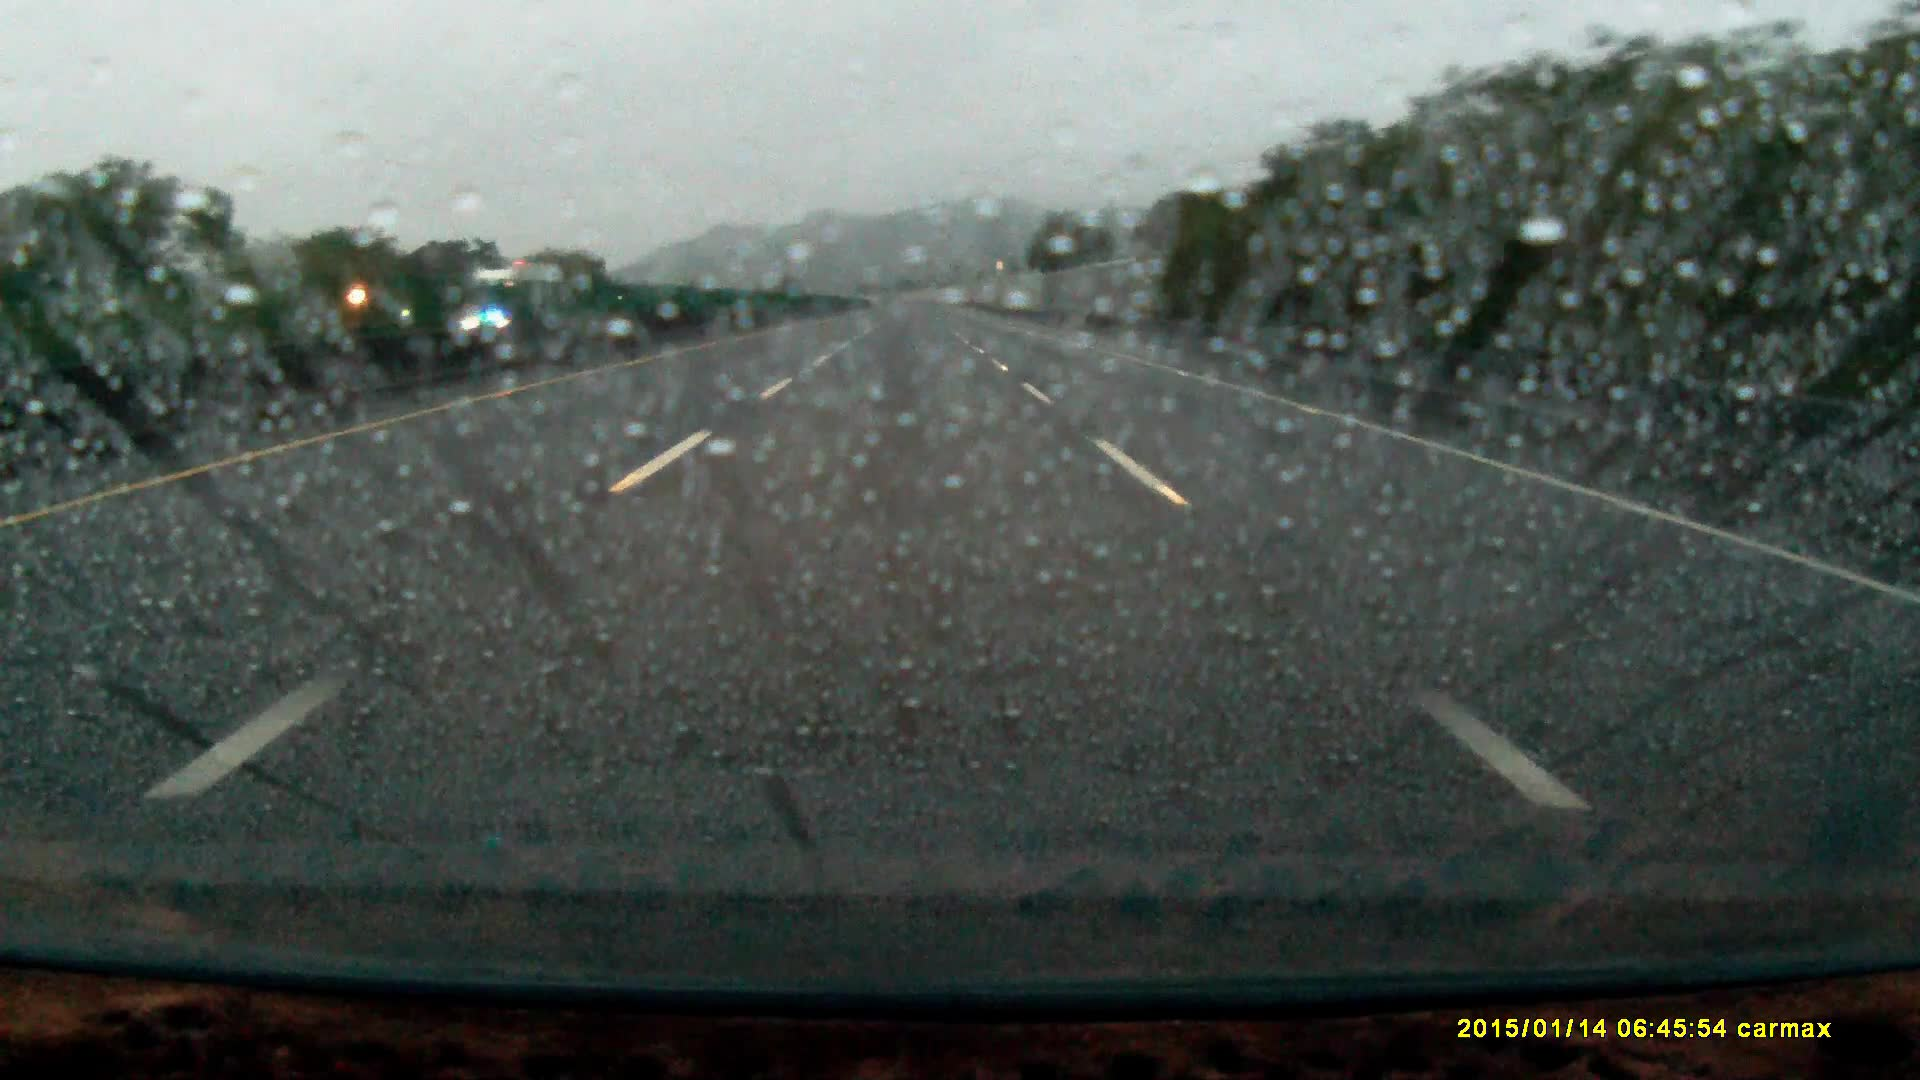vehicle: (463, 258, 558, 338)
